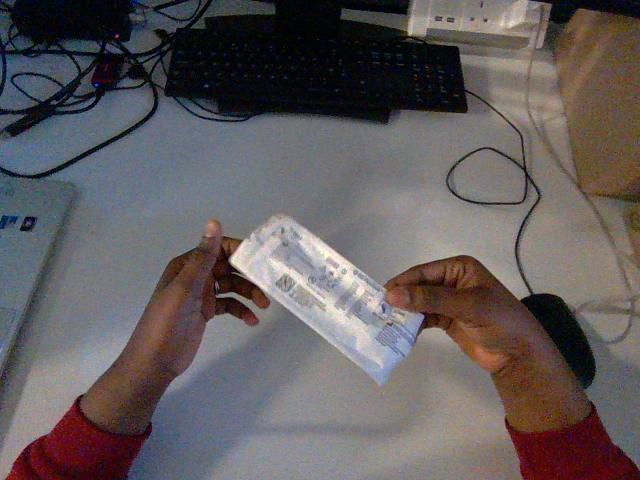syringe: (230, 215, 422, 384)
